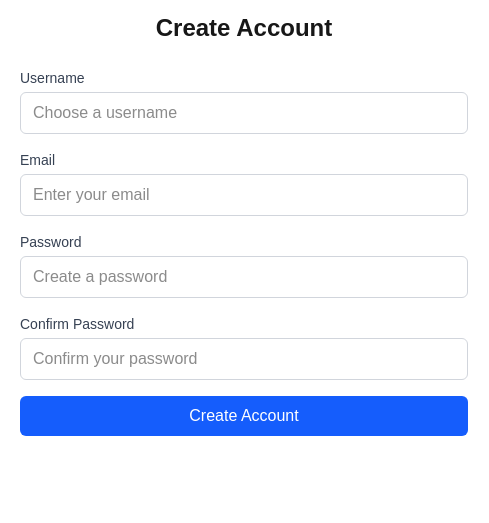
Scenario: RegisterForm › should display error when passwords do not match
In the field labelled "Username": (244, 113) [20, 92, 468, 134], type "testuser"
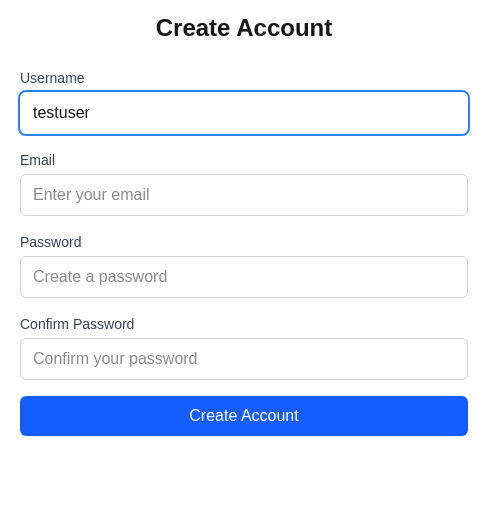
In the field labelled "Email": (244, 195) [20, 174, 468, 216], type "test@example.com"
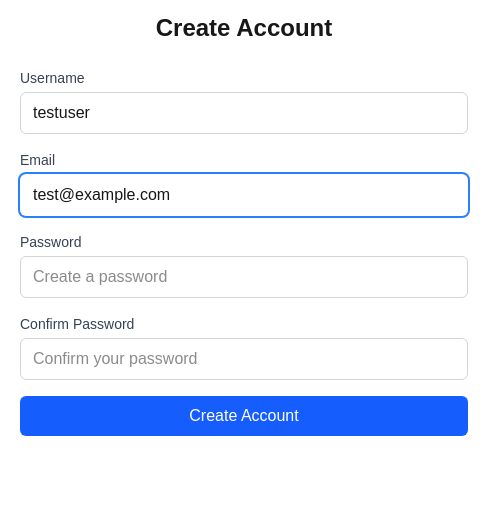
In the password field labelled "Password": (244, 277) [20, 256, 468, 298], type "password123"
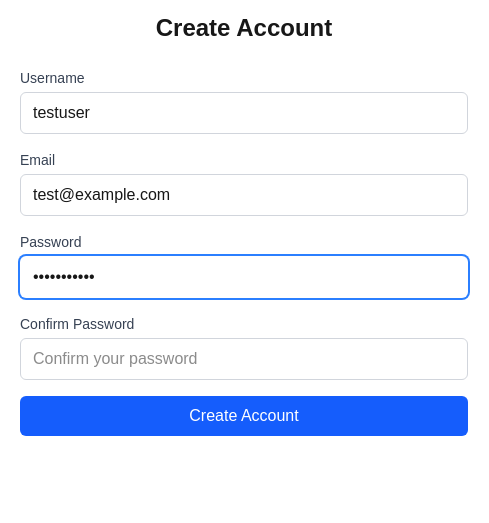
In the password field labelled "Confirm Password": (244, 359) [20, 338, 468, 380], type "differentpassword"
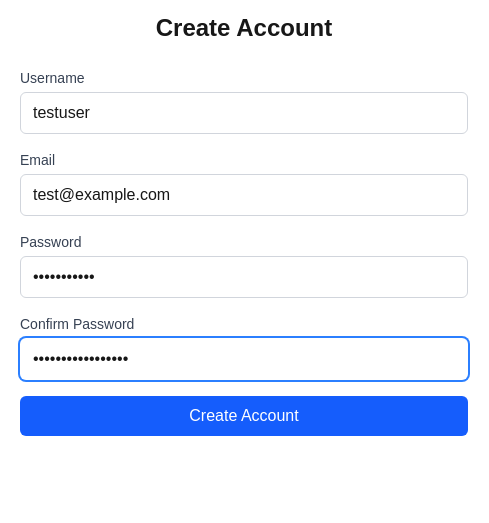
Click the button "Create Account": (244, 416) [20, 396, 468, 436]
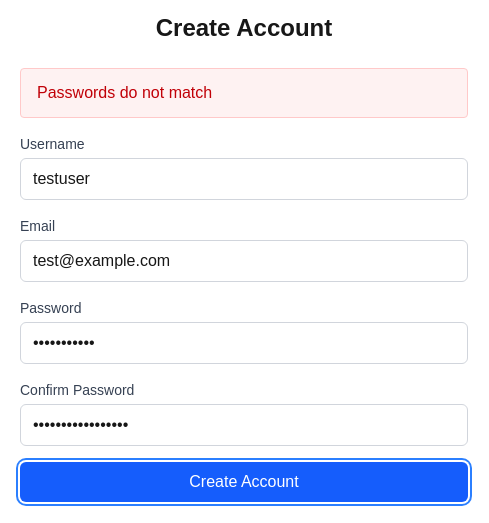
Now the text "Passwords do not match" is shown, box [20, 68, 468, 118]
